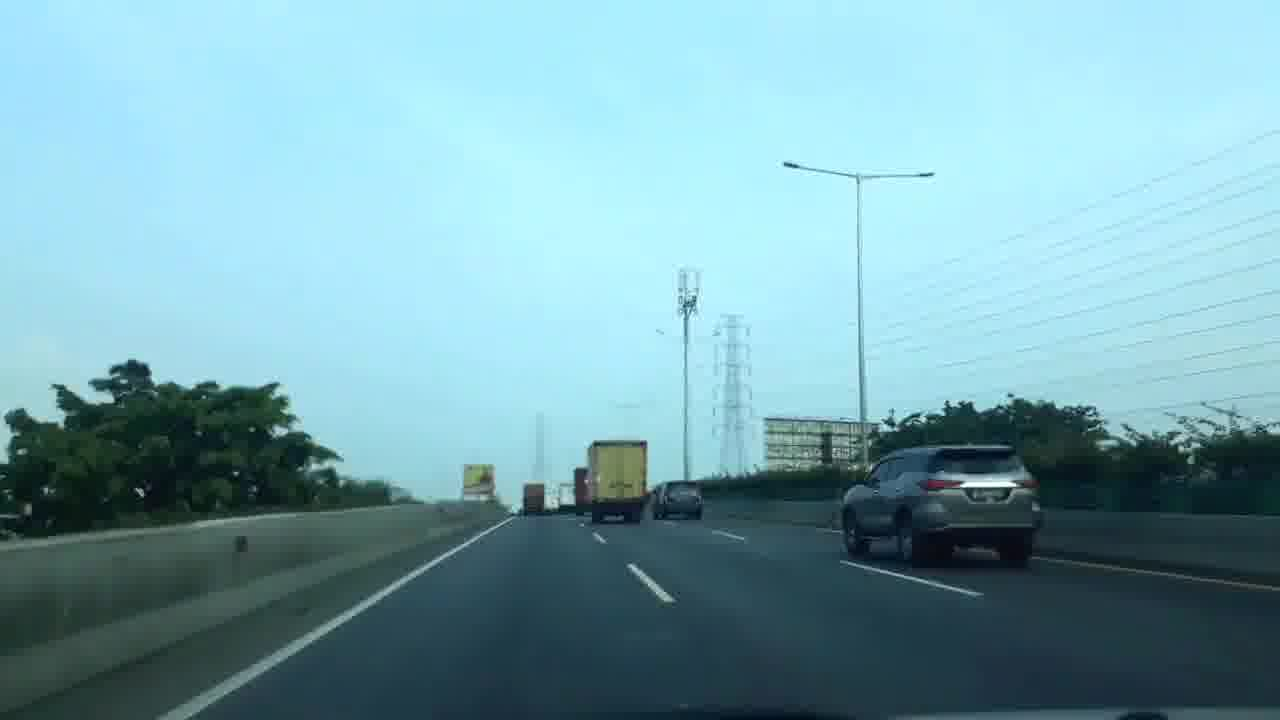plate_positive: (971, 488, 1008, 501)
